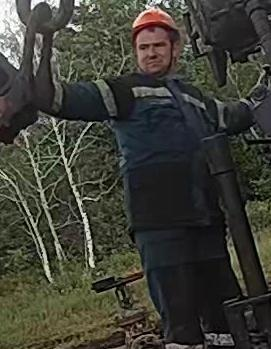helmet: (130, 9, 183, 43)
vest: (102, 72, 225, 232)
